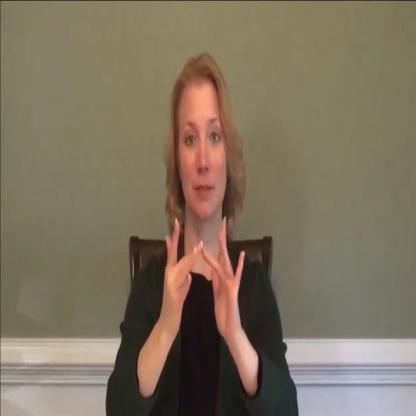Internet: (159, 204, 246, 354)
